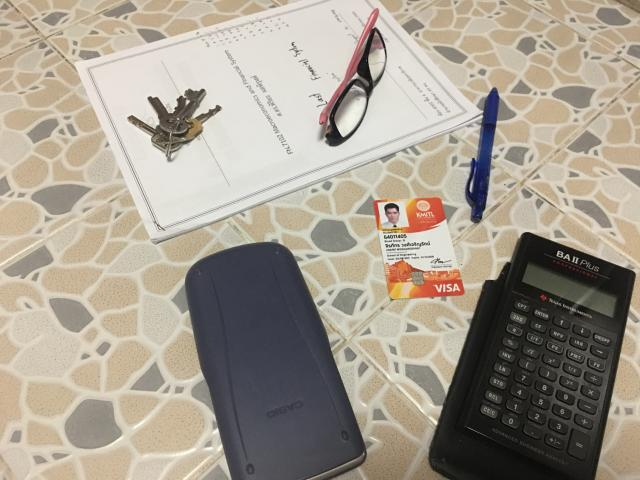Glasses: (319, 9, 386, 146)
Keys: (128, 89, 221, 158)
Pen: (465, 88, 500, 222)
paper: (76, 0, 481, 243)
